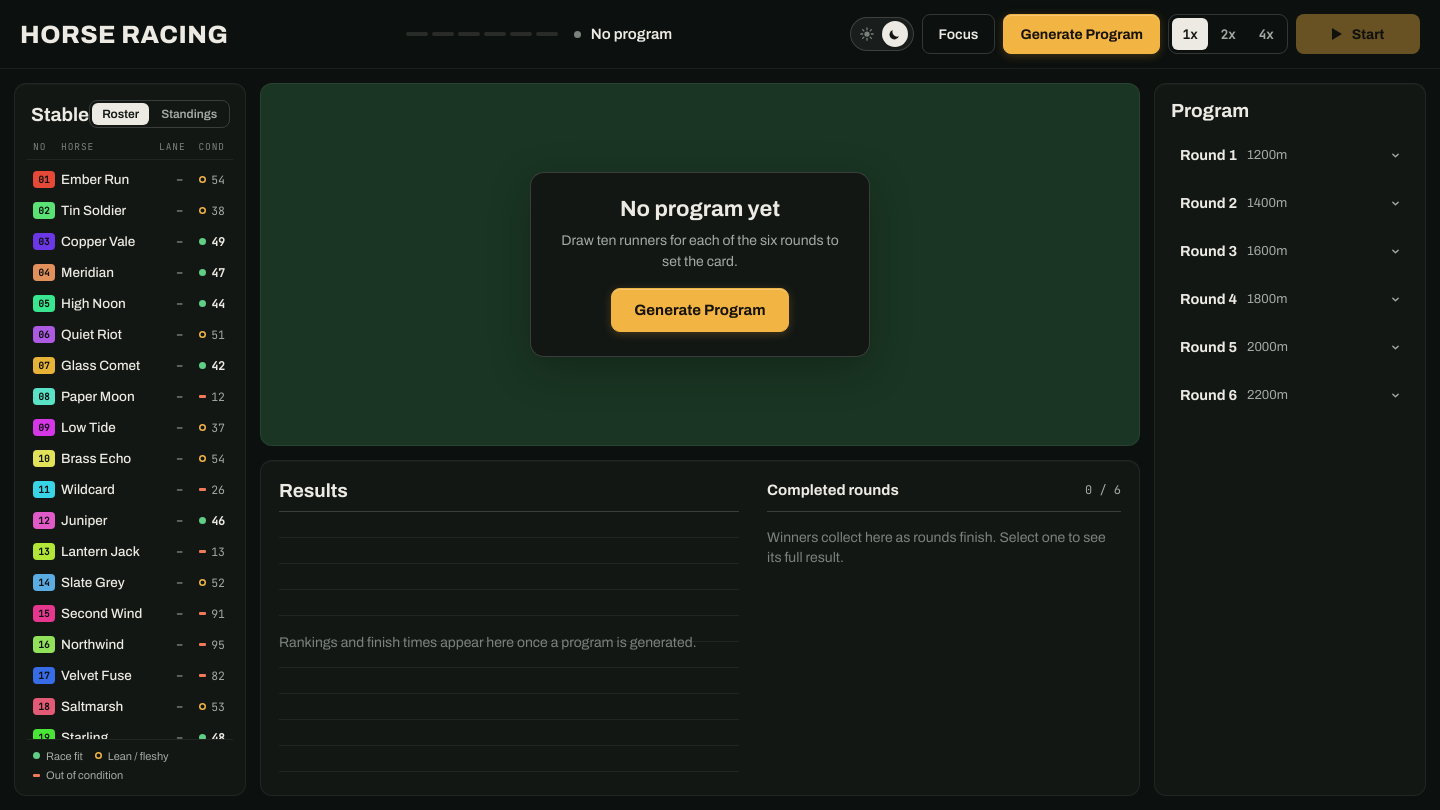
Scenario: App › standings › switches the stable between roster and standings
The image size is (1440, 810).
What coordinates should you click on to do the following:
click the tab with id "stable-tab-standings"
I would click on:
 (189, 114)
Its box is x1=151 y1=103 x2=227 y2=125.
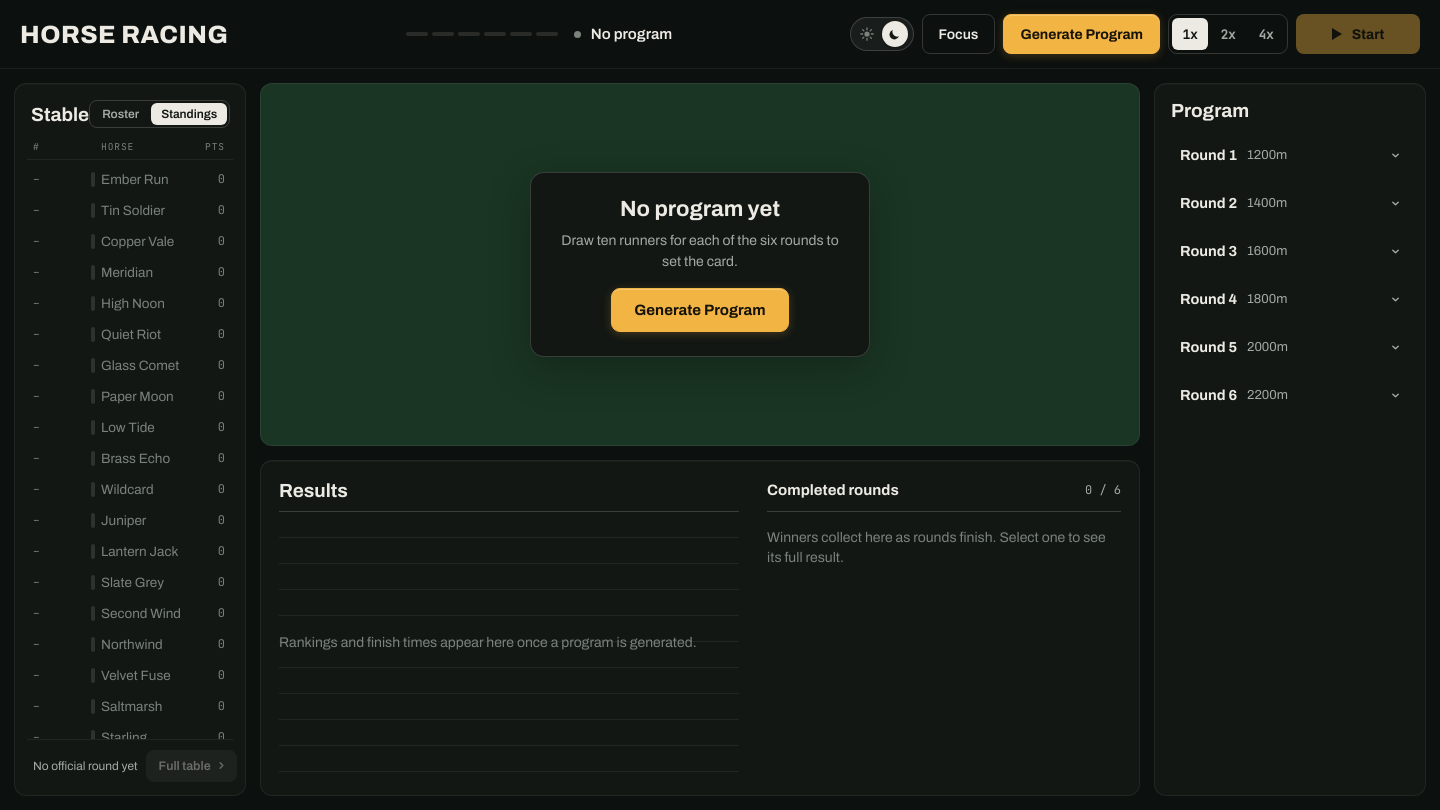
Result: the panel with id "stable-panel-standings" is shown at x1=27 y1=140 x2=233 y2=785
Result: the panel with id "stable-panel-roster" is gone
